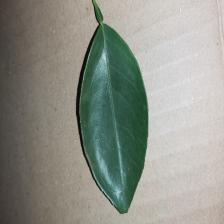healthy: (90, 43, 144, 196)
